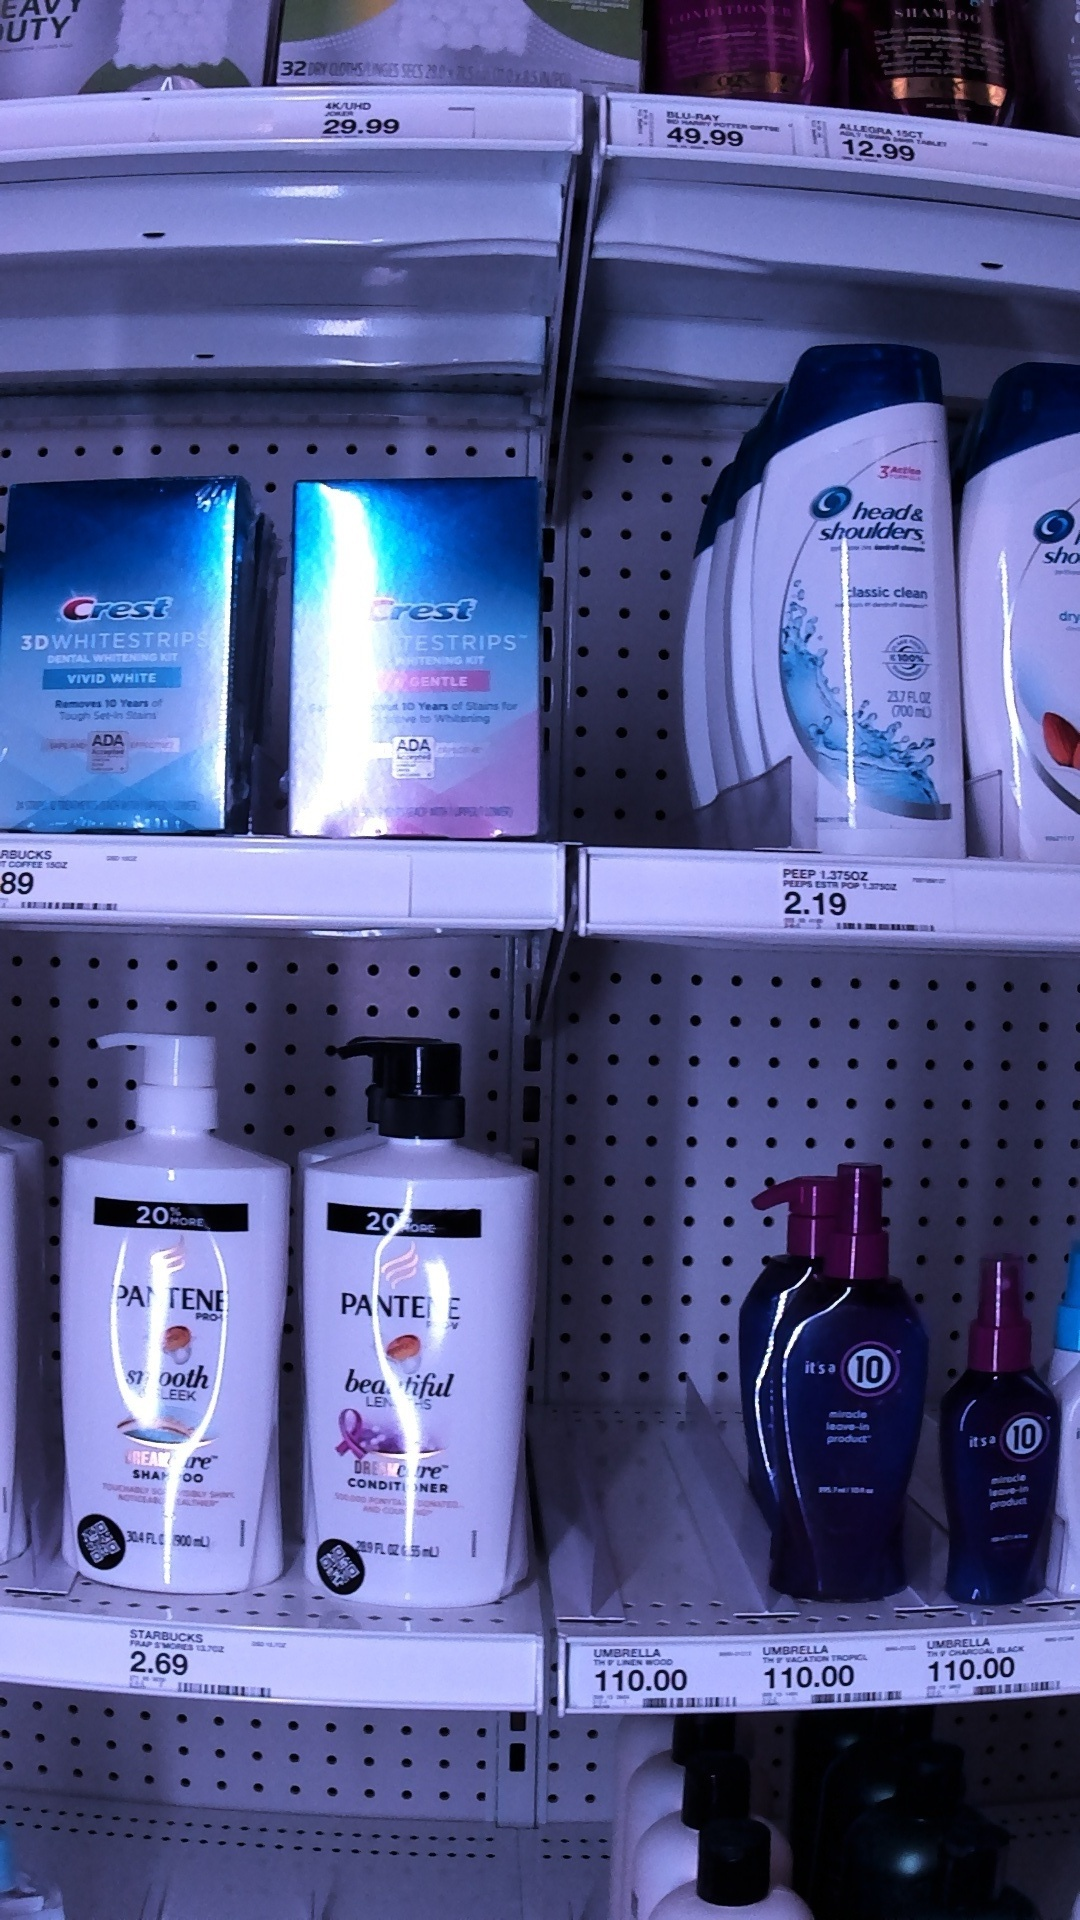ptag: (120, 1615, 293, 1713), (773, 857, 955, 945), (574, 1629, 738, 1716), (756, 1640, 902, 1722), (1, 843, 149, 923), (302, 88, 475, 156), (924, 1631, 1064, 1712), (662, 95, 786, 169), (837, 111, 955, 179)
